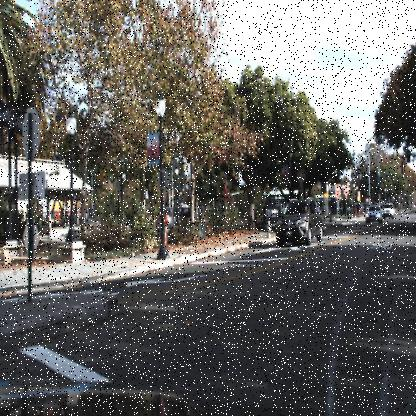car: (275, 193, 325, 250), (363, 201, 383, 226), (380, 200, 398, 218)
